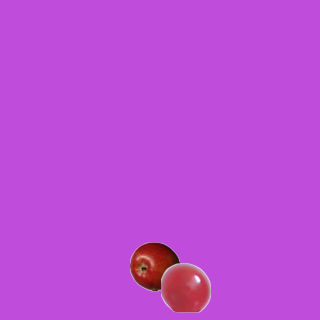Apple Braeburn: (129, 241, 179, 291)
Redcurrant: (160, 262, 210, 312)
